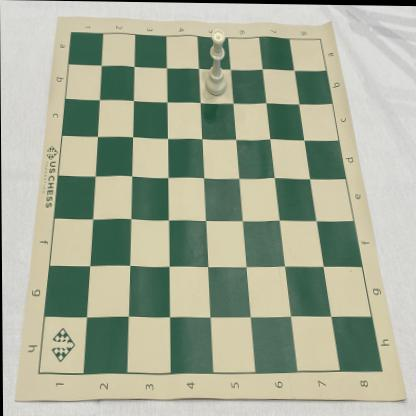white-queen: (205, 28, 227, 96)
